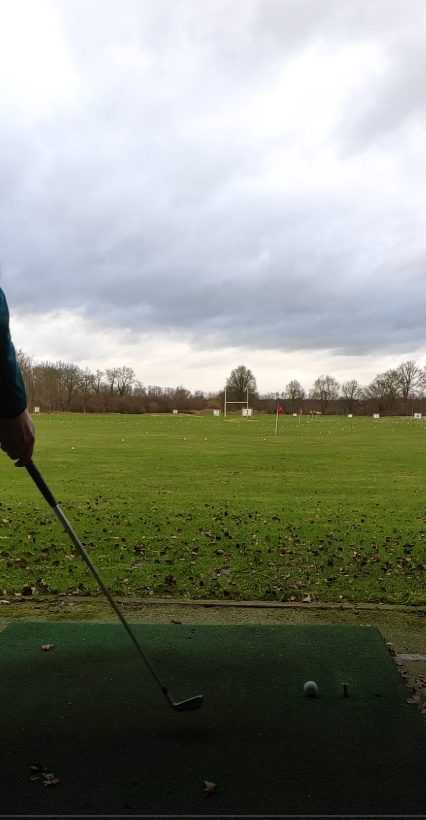golfball: (303, 680, 319, 697)
